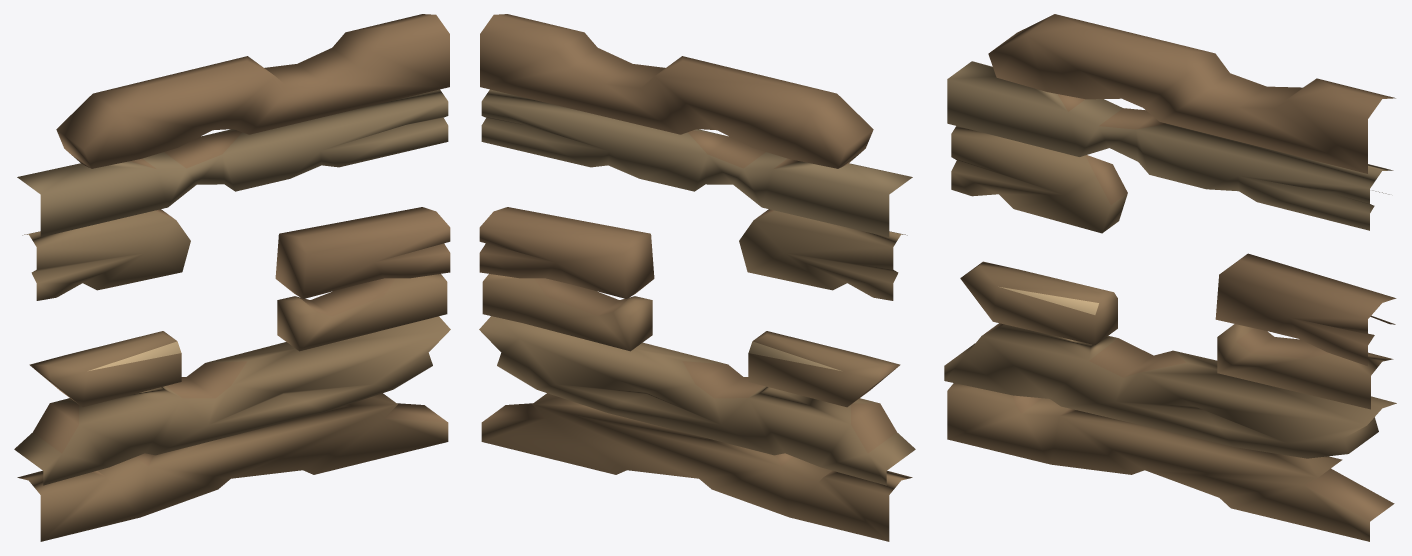
File: rpgpp_av_wall_01_3x3_window_02b.gltf
3 views of the same model, side by side, from view 1: azimuth 30°, elevation 25°; view 2: azimuth 150°, elevation 25°; view 3: azimuth 330°, elevation 25° (orthographic). The views are drawn at different scales.
Parts seen in each view (by area): view 1: rpgpp_av_wall_01_3x3_window_02b; view 2: rpgpp_av_wall_01_3x3_window_02b; view 3: rpgpp_av_wall_01_3x3_window_02b.
Part boxes in pixels (x1,y1,x2,y2): rpgpp_av_wall_01_3x3_window_02b: (14,14,450,541); rpgpp_av_wall_01_3x3_window_02b: (479,14,915,541); rpgpp_av_wall_01_3x3_window_02b: (944,14,1396,541).
Bounding box in the file's own units: 0.03 × 0.03 × 0.00374.
Materials: 1 (1 with a texture image).
